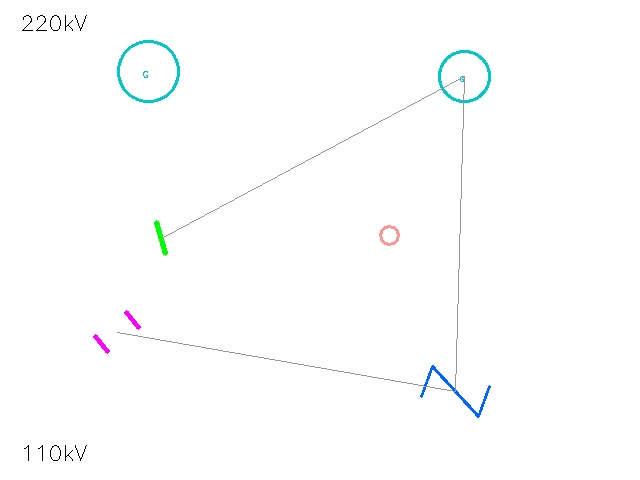busbar: (141, 218, 181, 258)
capacitor: (85, 300, 149, 364)
circuit_breaker: (422, 358, 488, 424)
generator: (118, 41, 178, 101), (439, 51, 489, 101)
voltage_transformer: (371, 217, 407, 253)
